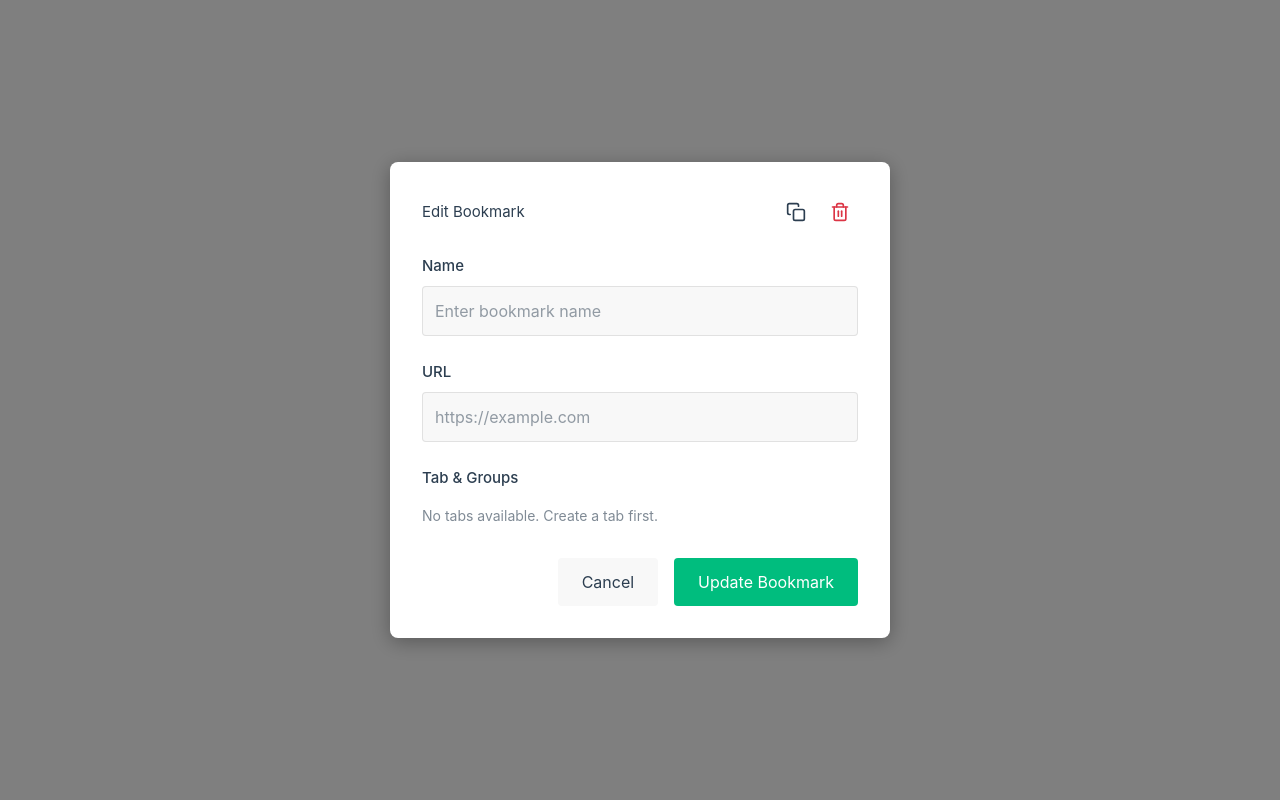
Scenario: EditBookmarkForm › validates that name is required
The image size is (1280, 800).
Clear the field with id "bookmark-name" at (640, 311), box [422,286,858,336]
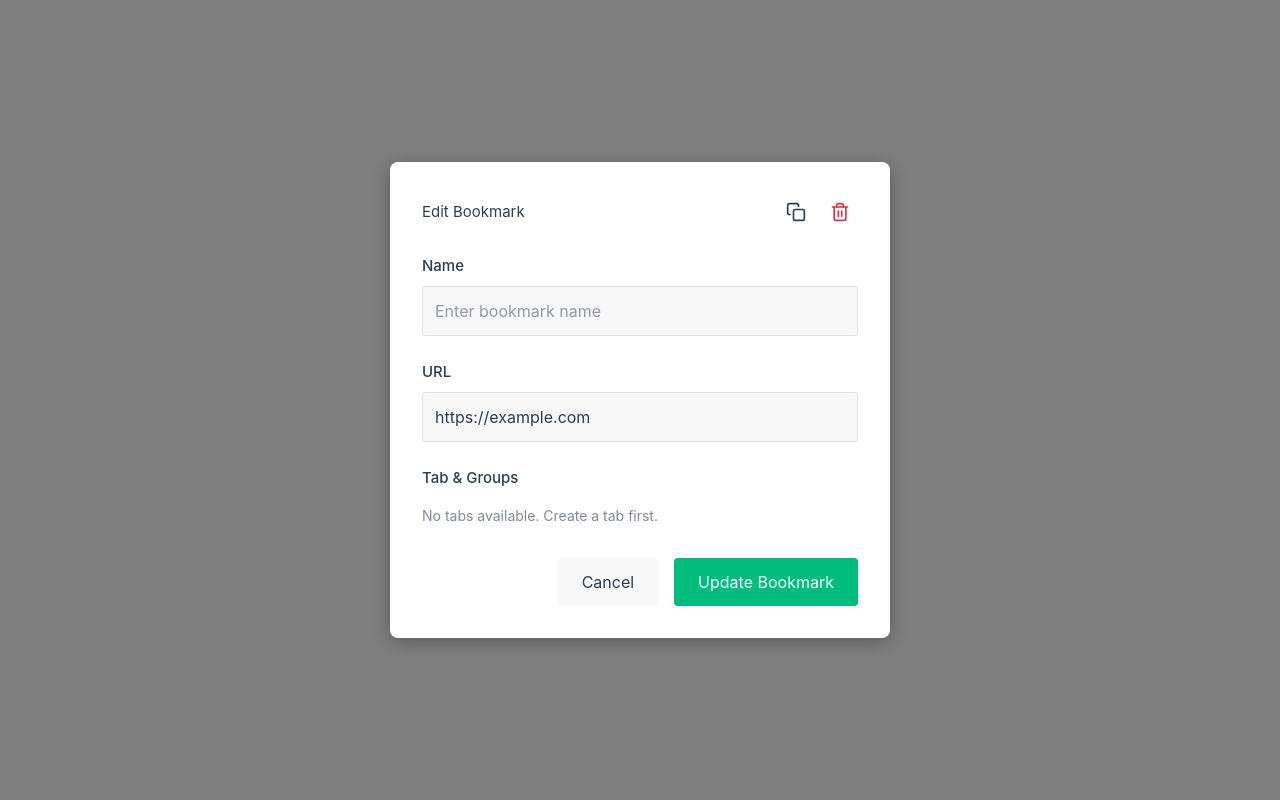
Submit the form, box [422,254,858,606]
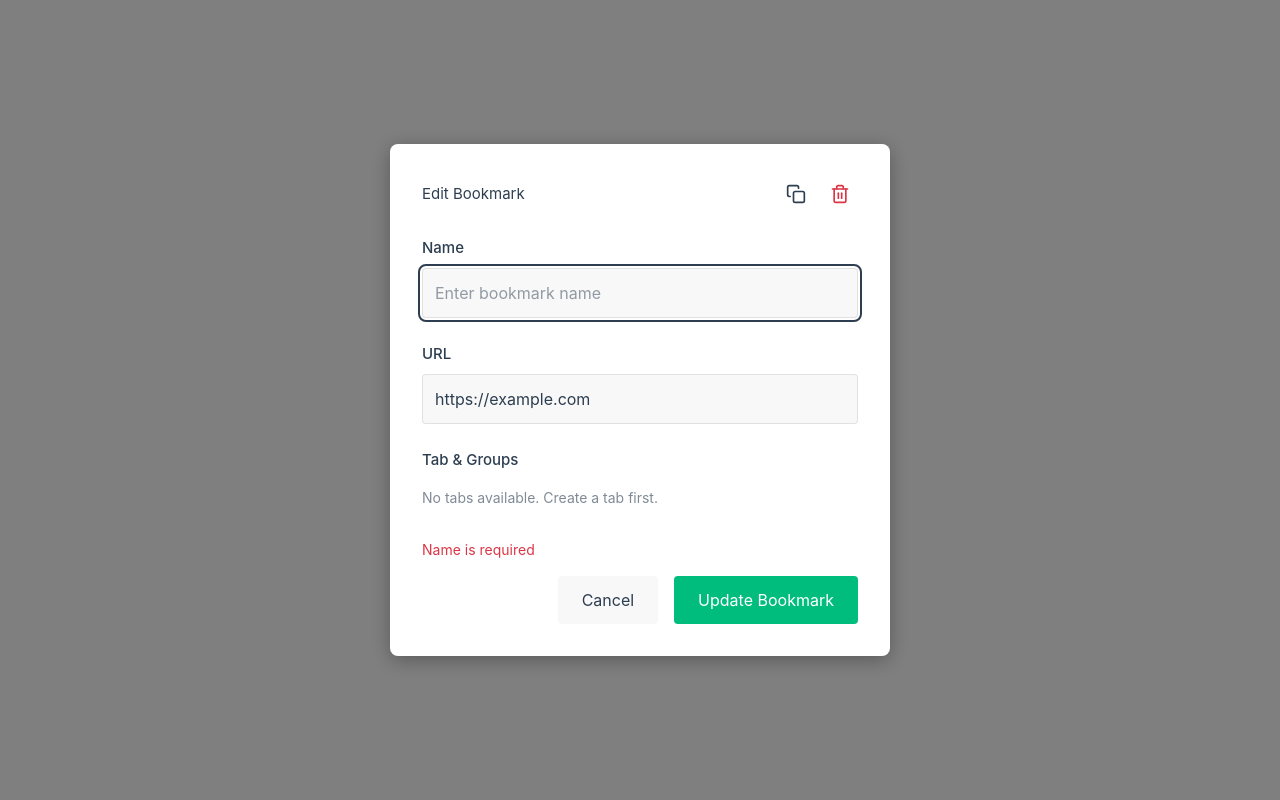
Expected: the text "Name is required" is shown, [422,541,535,558]
